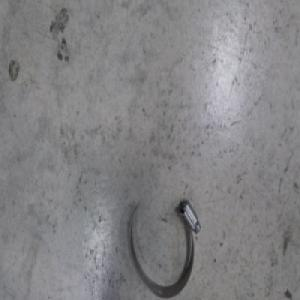AdjustableClamp: (126, 198, 200, 294)
